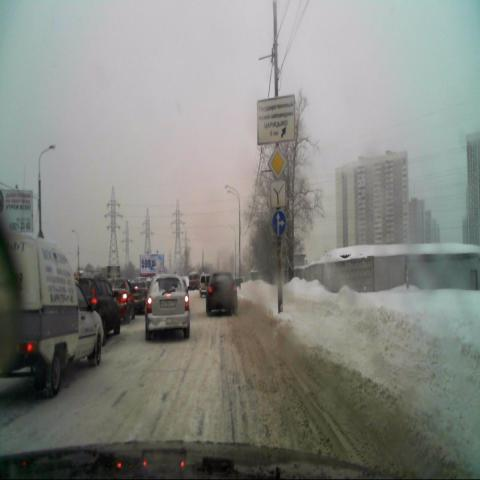2_1: (266, 142, 287, 180)
4_1_4: (271, 210, 287, 238)
